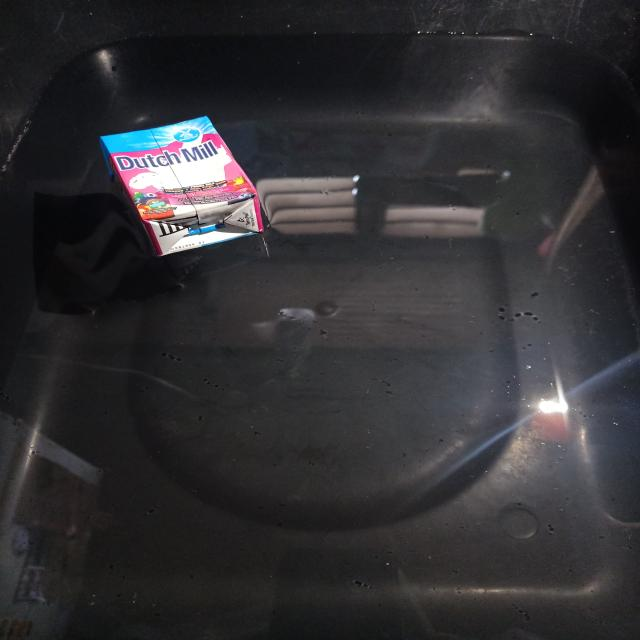Cardboard Box: (100, 116, 264, 256)
